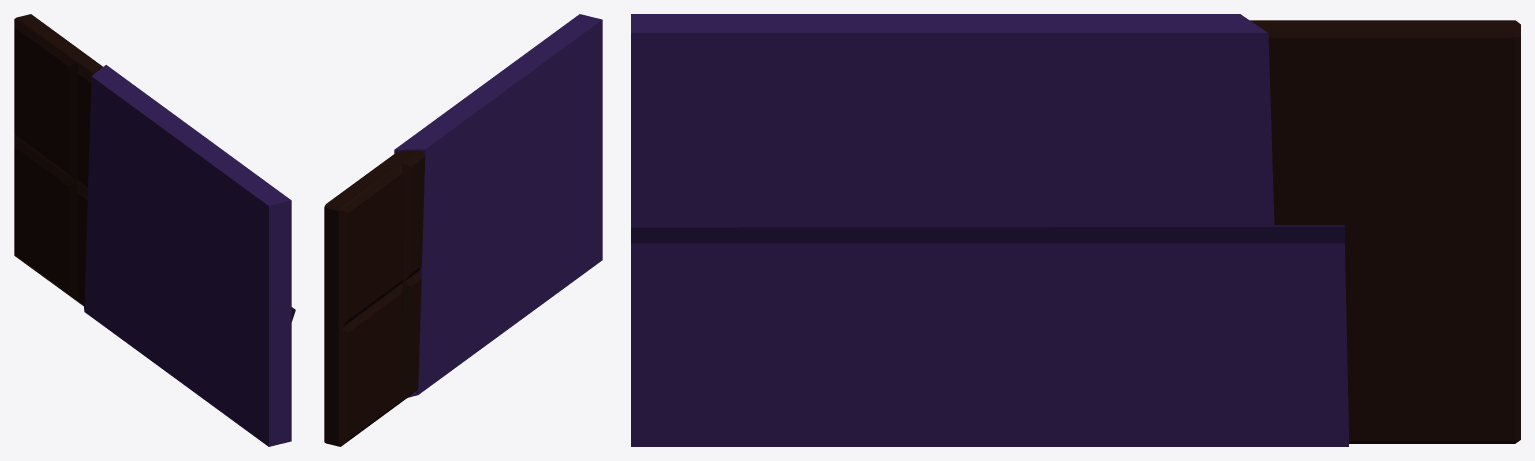
The model's file is P_Chocolate.FBX.
3 views of the same model, side by side, from view 1: azimuth 30°, elevation 25°; view 2: azimuth 150°, elevation 25°; view 3: azimuth 270°, elevation 25° (orthographic). The views are drawn at different scales.
Parts seen in each view (by area): view 1: Chocolate; view 2: Chocolate; view 3: Chocolate.
Boxes of the visible parts, x1,y1,x2,y2 form: Chocolate: (14, 14, 295, 446); Chocolate: (324, 14, 602, 446); Chocolate: (631, 14, 1520, 446).
Size of the model in its own units: 0.9962 by 16.63 by 8.53.
